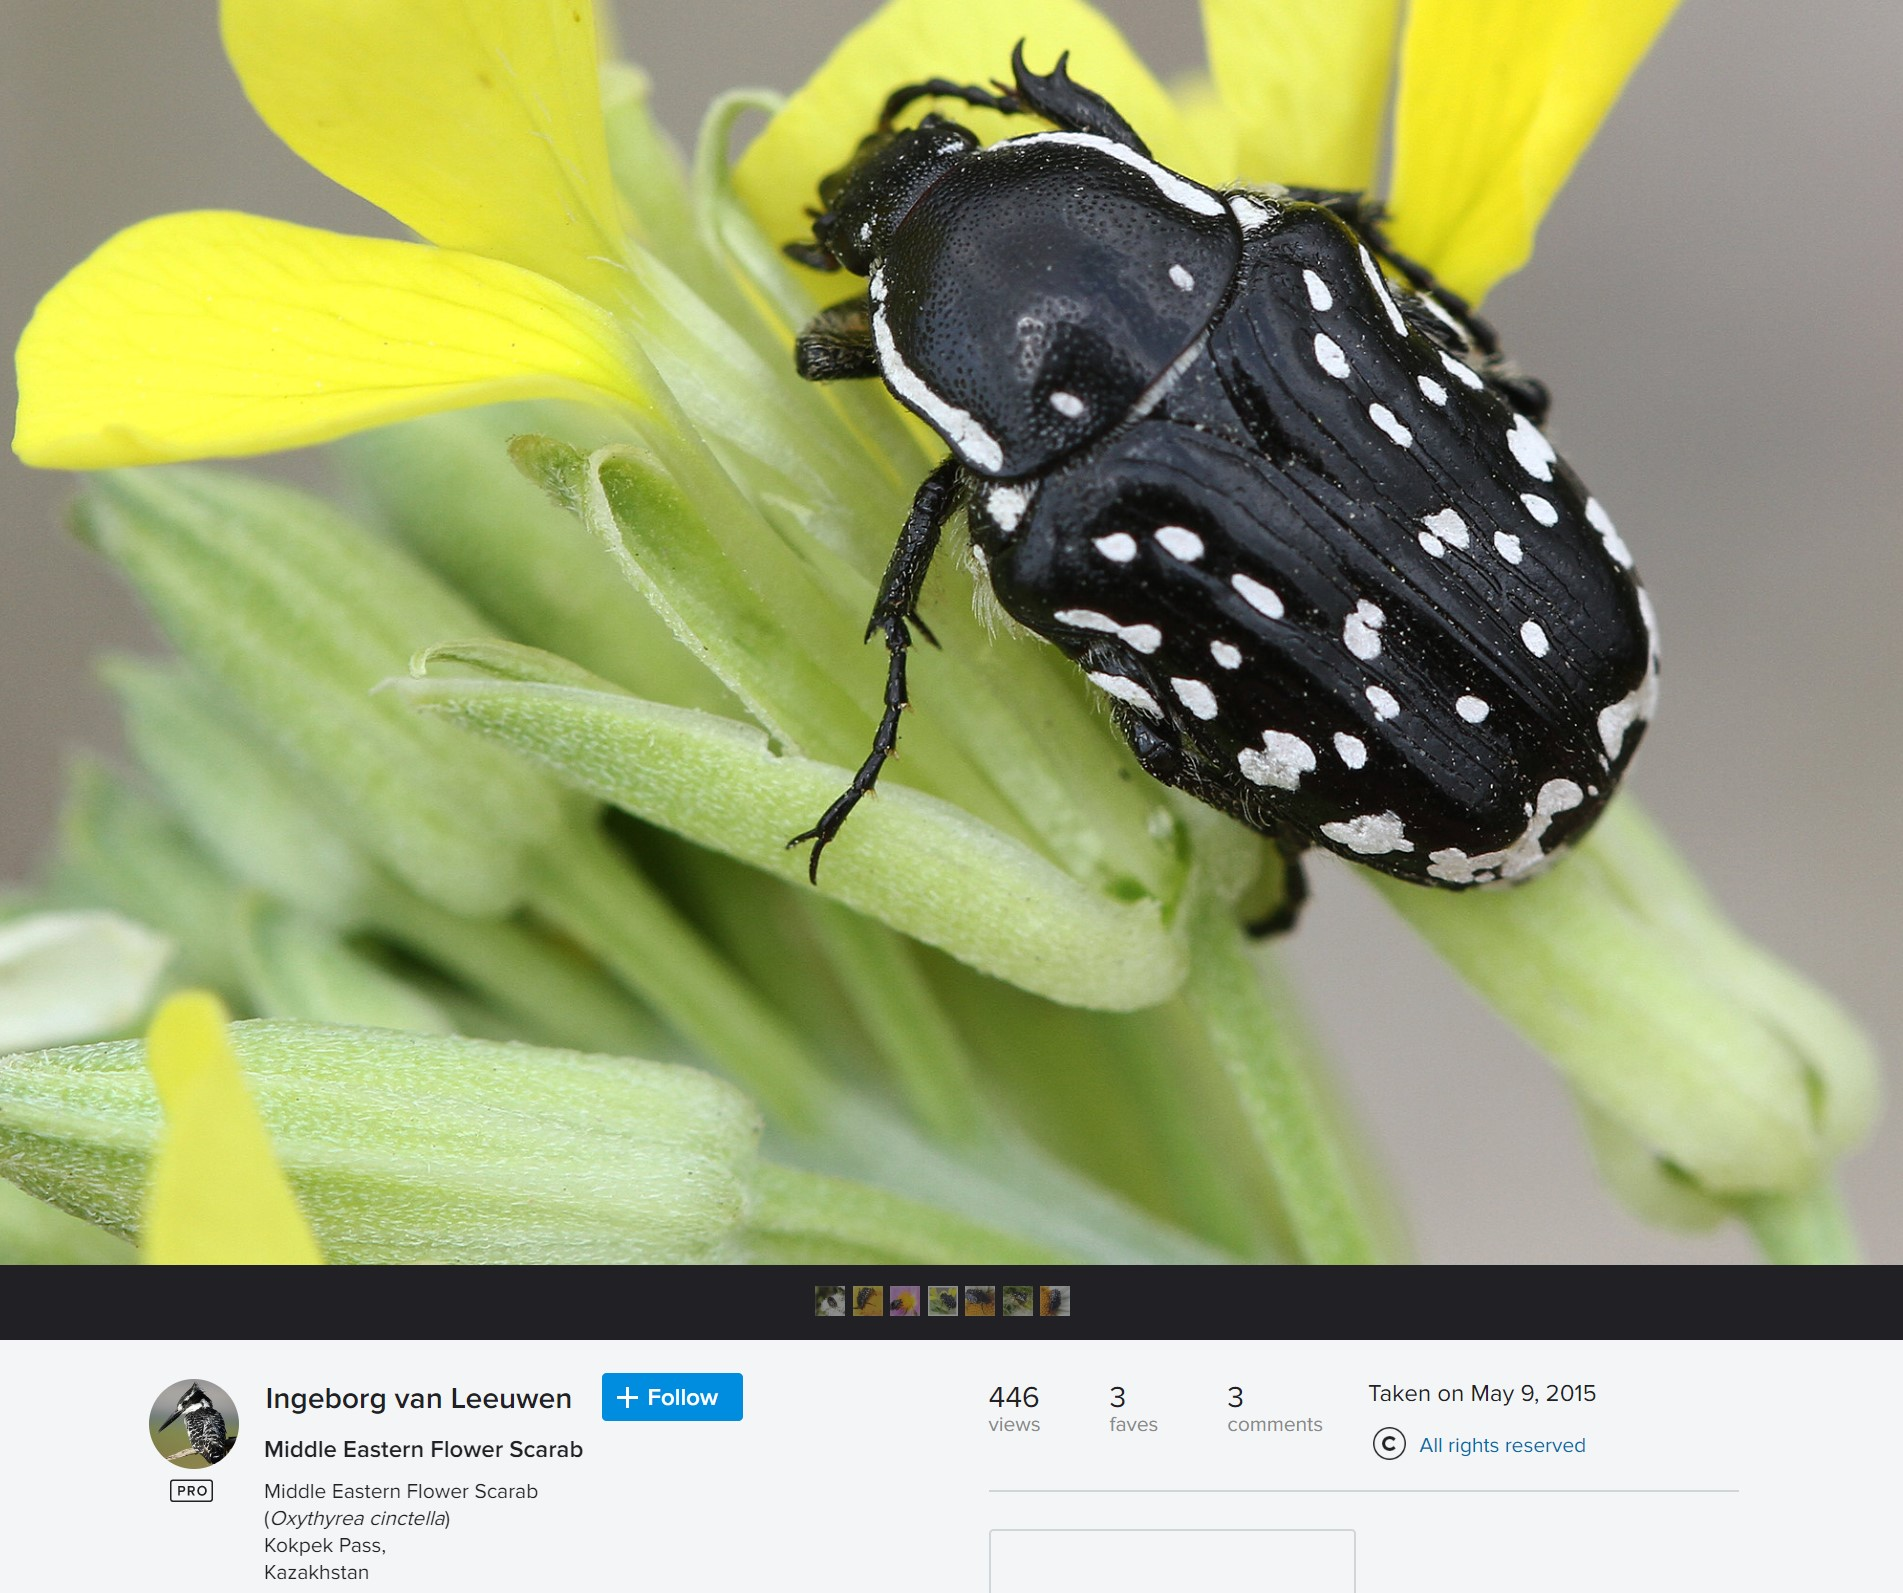Oxythyrea_cinctella: (751, 30, 1693, 929)
